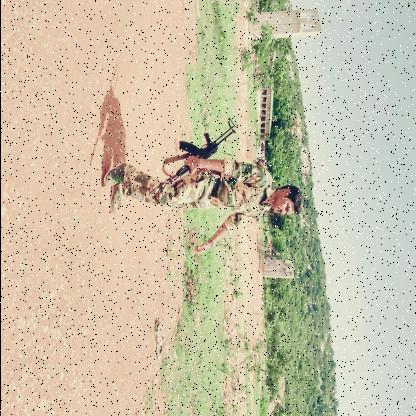rifle: (147, 116, 237, 198)
